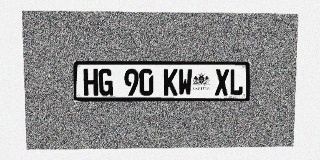0: (139, 69, 153, 96)
9: (124, 69, 139, 96)
G: (98, 69, 113, 96)
H: (83, 69, 98, 96)
K: (164, 69, 178, 96)
L: (229, 69, 243, 95)
W: (178, 69, 192, 96)
X: (215, 69, 229, 95)
